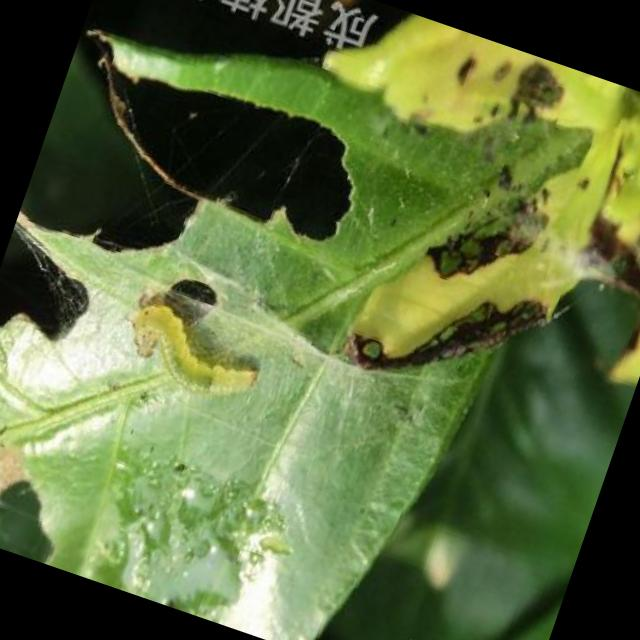leaf-folder: (64, 258, 296, 433)
